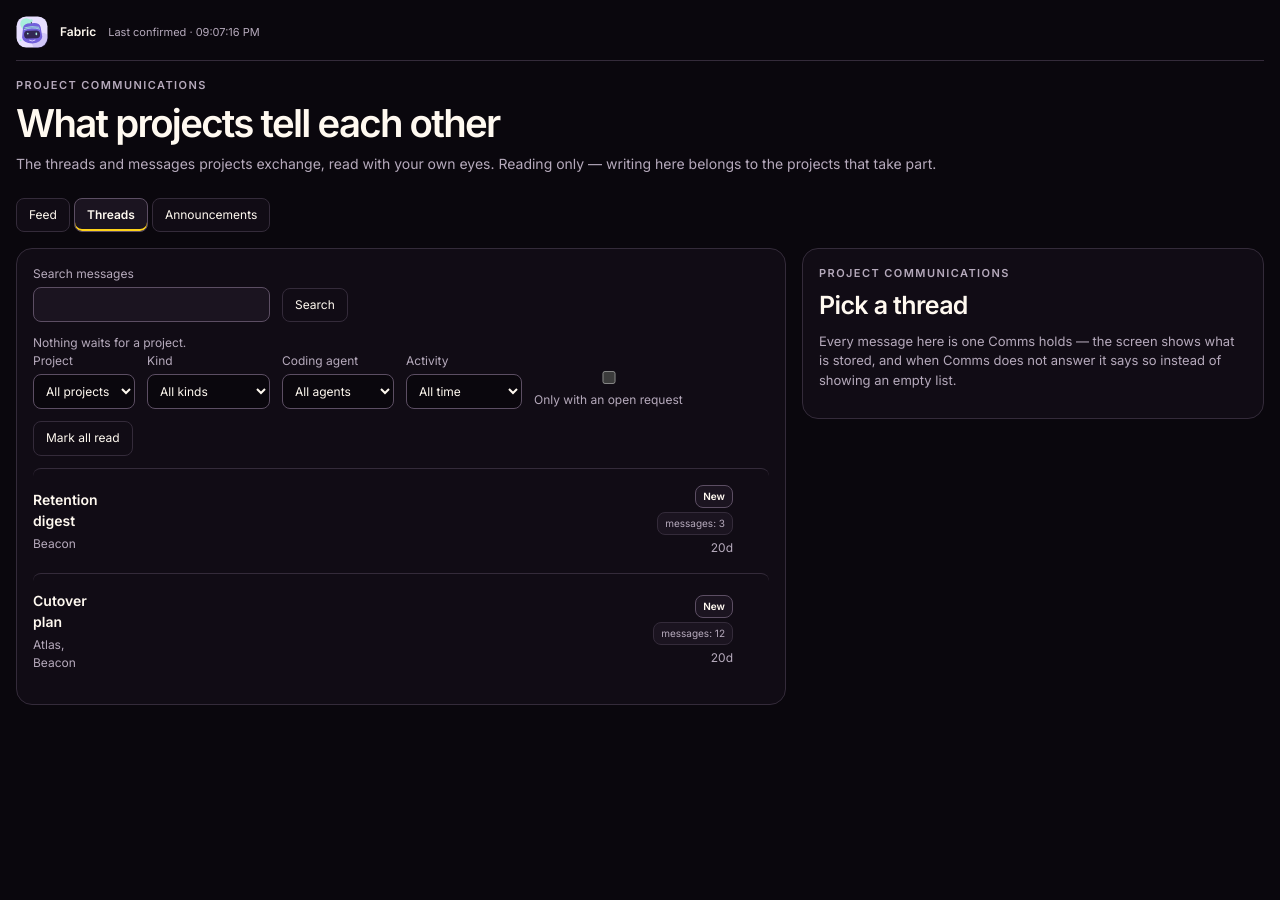
Test: the filters are reads the board answers › by participant project: the board is asked for that project
Expected: the text "Cutover plan" is shown, [33,590,57,632]
Select "Atlas" in the dropdown labelled "Project". click: (84, 392)
box: [33,374,135,409]
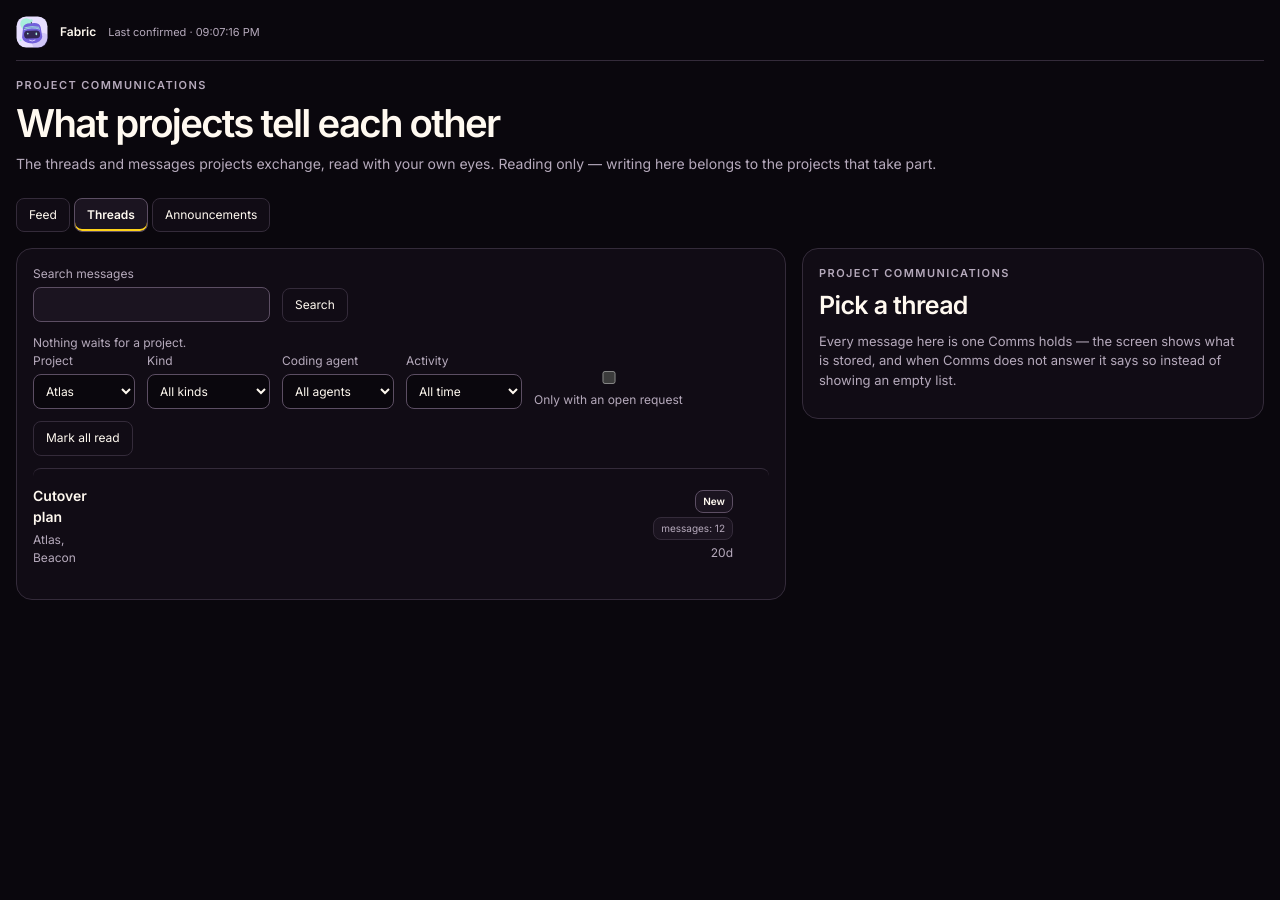
Expected: the text "Cutover plan" is shown, [33,485,57,527]
Expected: the button "Retention digest" is gone
